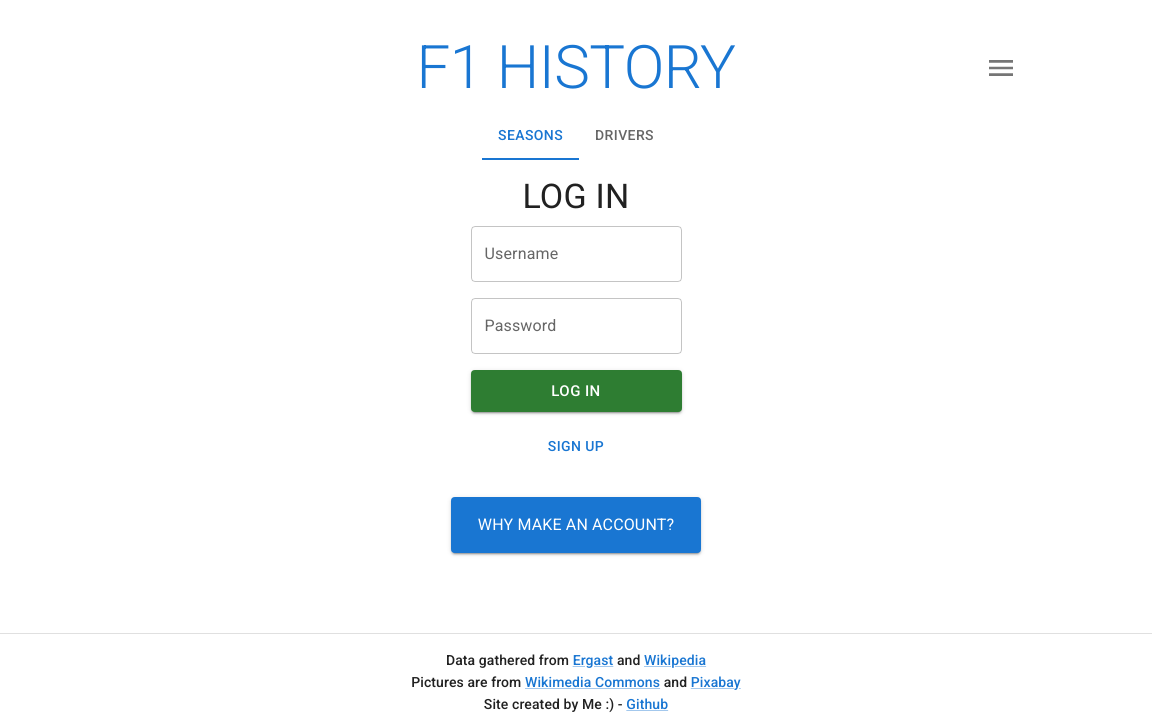
Test case: User tests › Sign up form › Sign up form validation
Click the button "Sign up" at (577, 447), box [471,428,682,465]
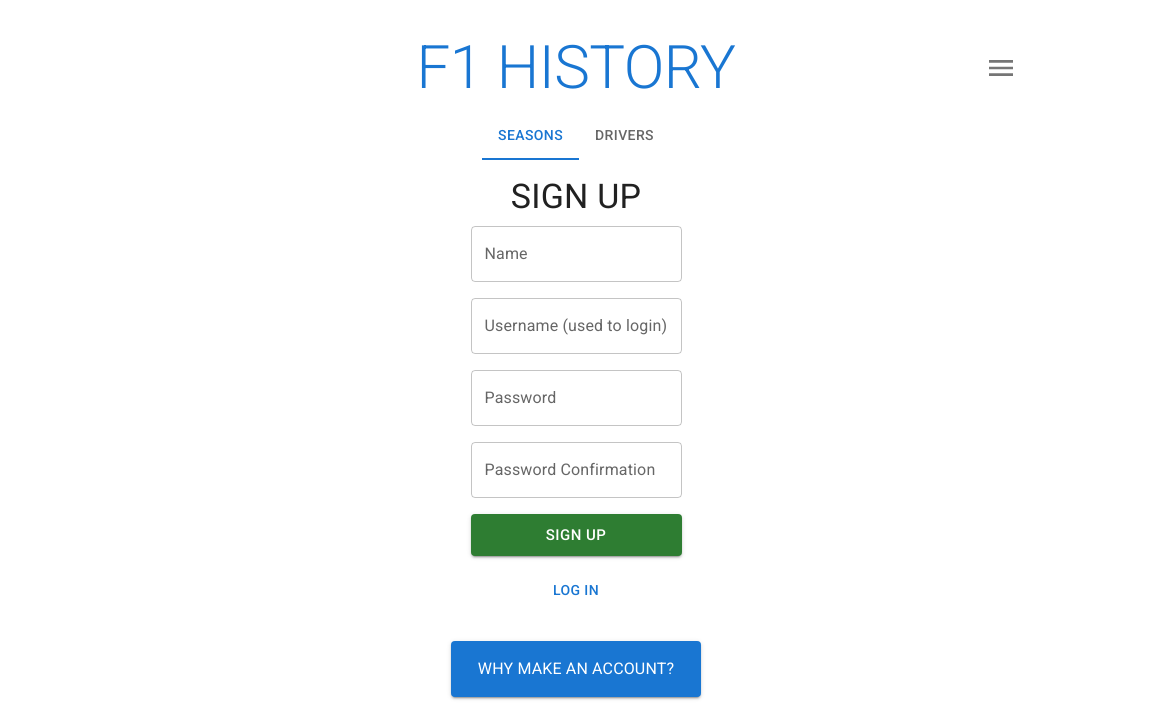
Type "failed" into the field with id "name" at (577, 254), box [471,226,682,282]
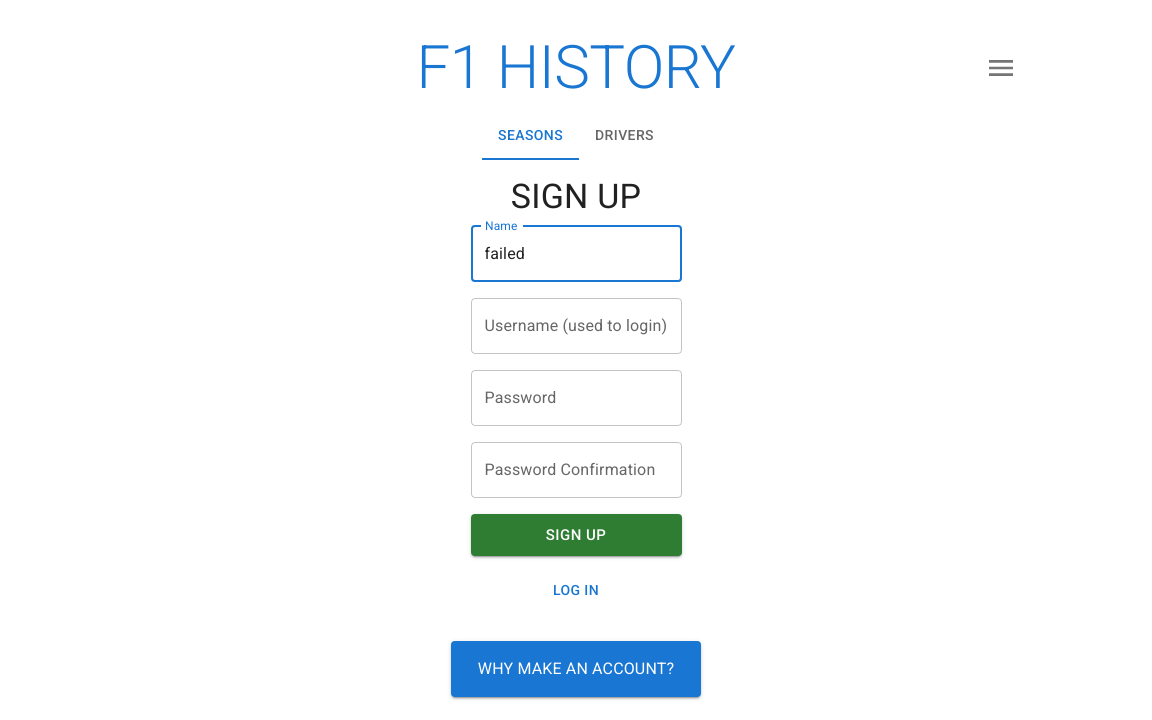
Type "ville" into the field with id "username" at (577, 326), box [471,298,682,354]
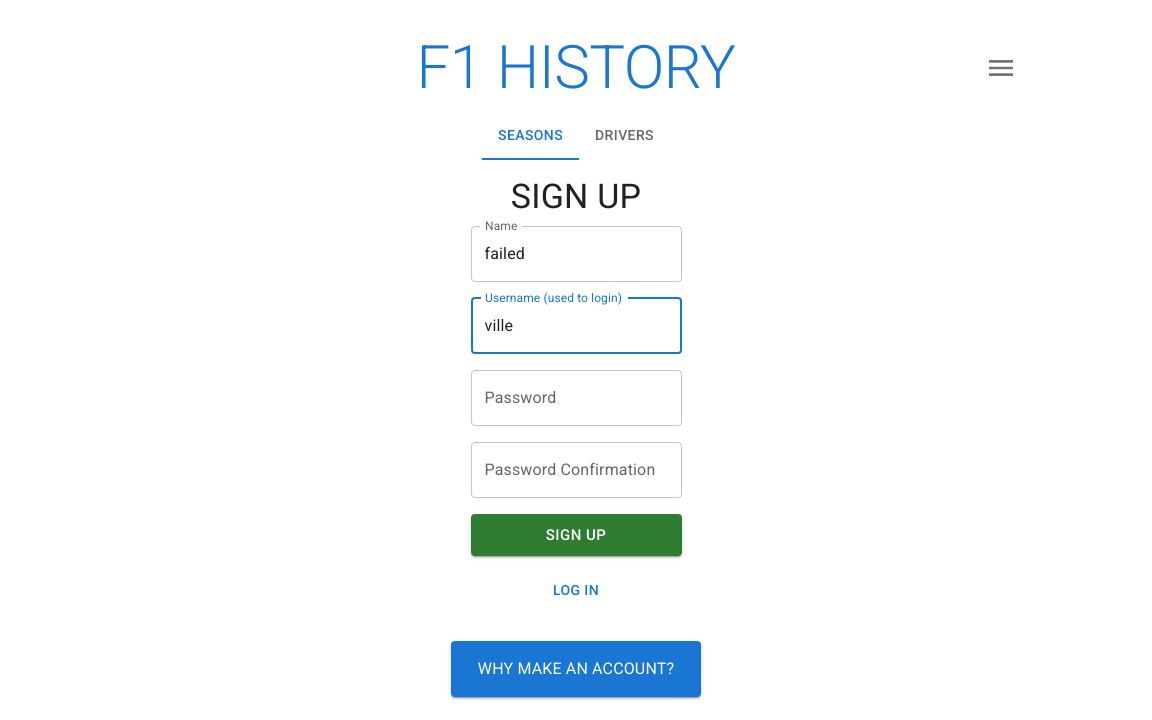
Type "123456" into the password field labelled "Password" at (577, 398), box [471,370,682,426]
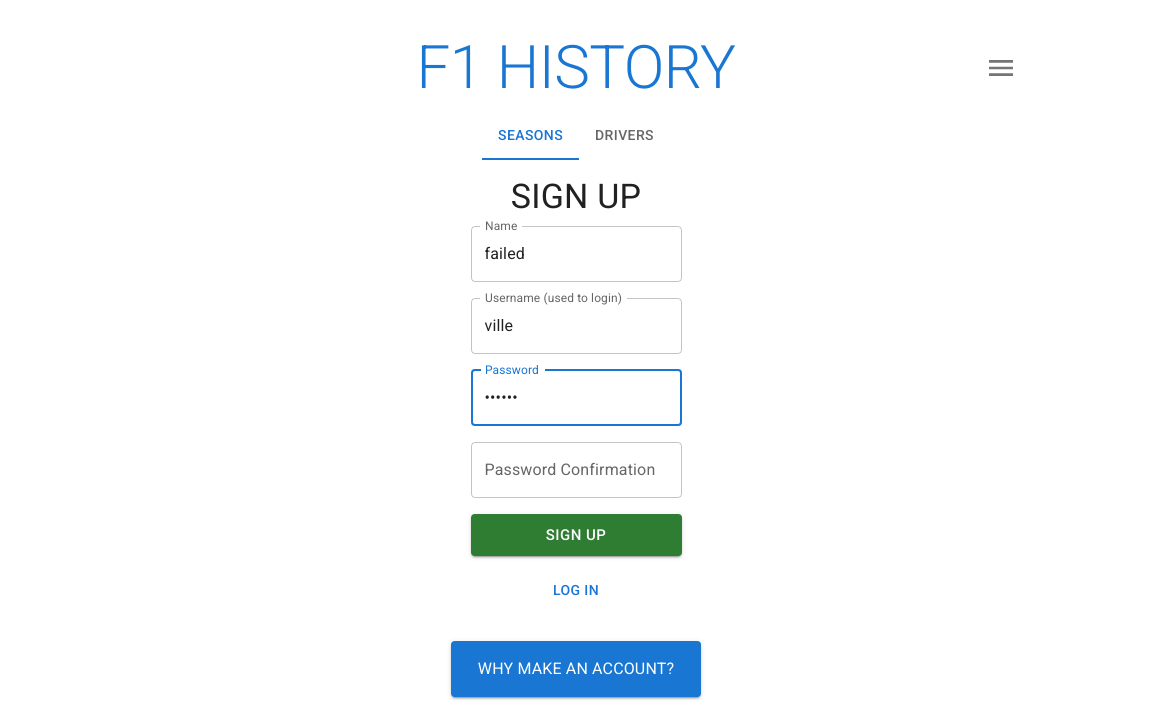
Type "1234565" into the password field labelled "Password Confirmation" at (577, 470), box [471,442,682,498]
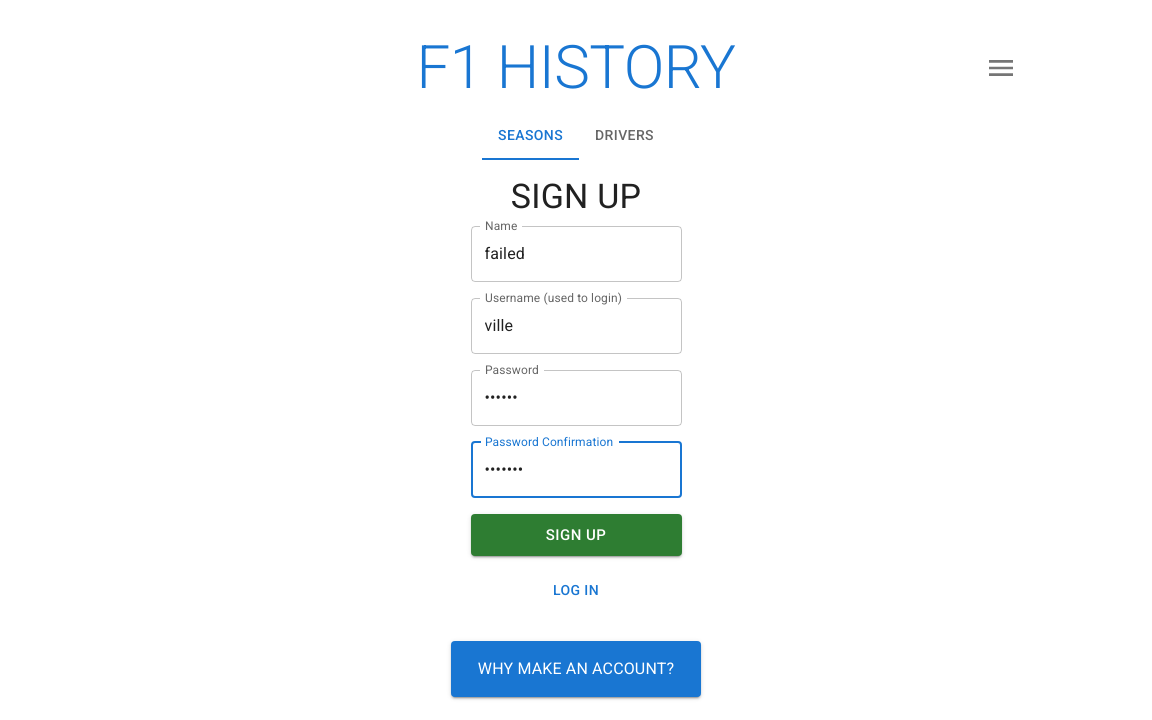
Submit the form, box [471,226,682,609]
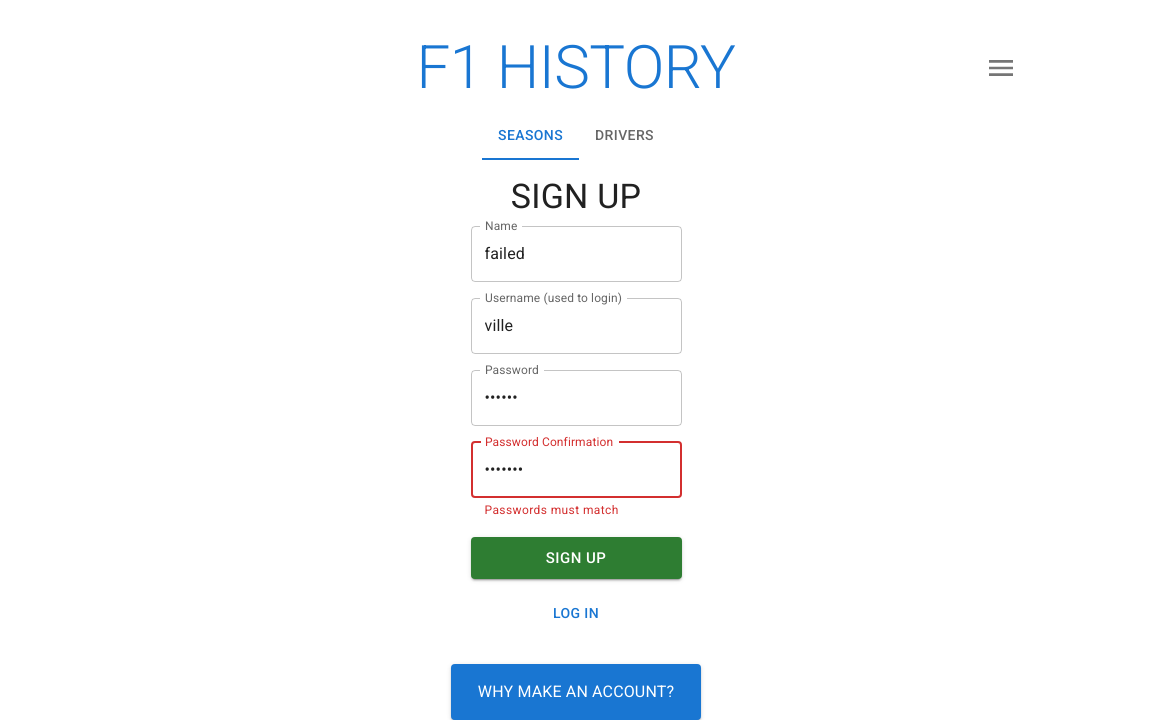
Expected: the text "Passwords must match" is shown, [484,503,619,517]
